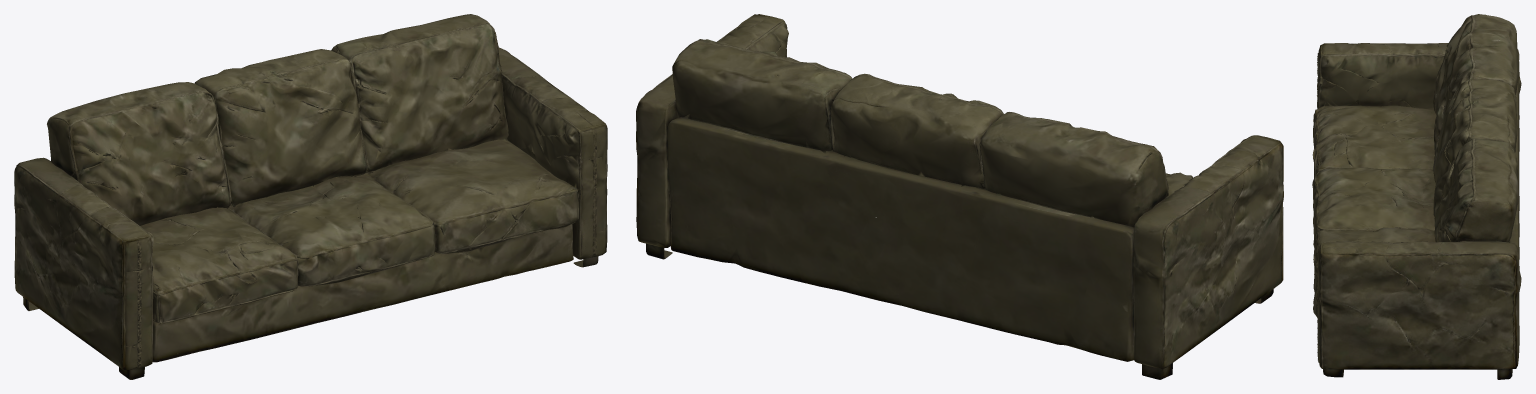
The model's file is sofa.glb.
The picture shows the model from 3 angles, left to right: view 1: azimuth 30°, elevation 25°; view 2: azimuth 150°, elevation 25°; view 3: azimuth 270°, elevation 25°; orthographic projection. The views are drawn at different scales.
Bounding box in the file's own units: 0.979 × 0.3698 × 0.4012.
1 material, 1 textured.
